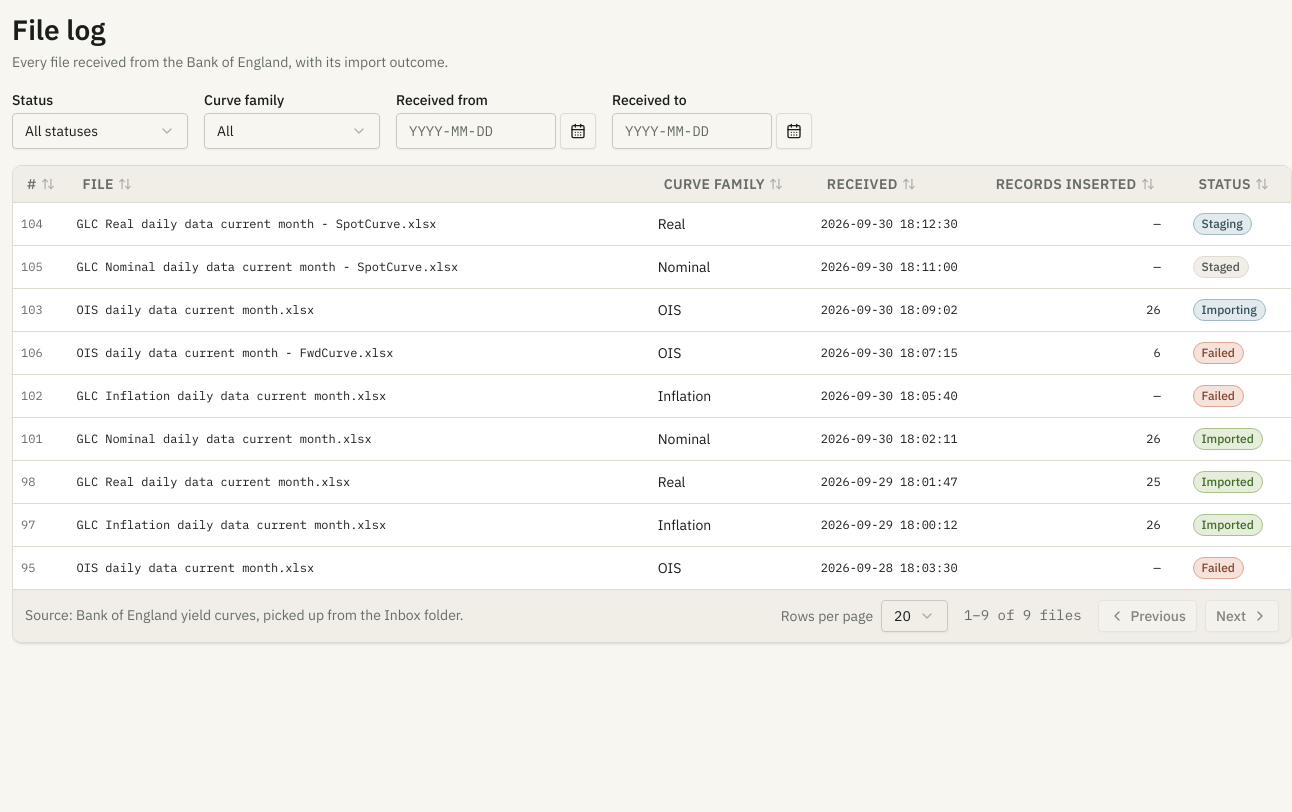
Epic file-log, Story 2: filter and sort the file log › shows the date-format message for a received date not in YYYY-MM-DD form and leaves the list as it was
In the field labelled "Received from": (476, 131) x1=396 y1=113 x2=556 y2=149, type "04/10/2026"
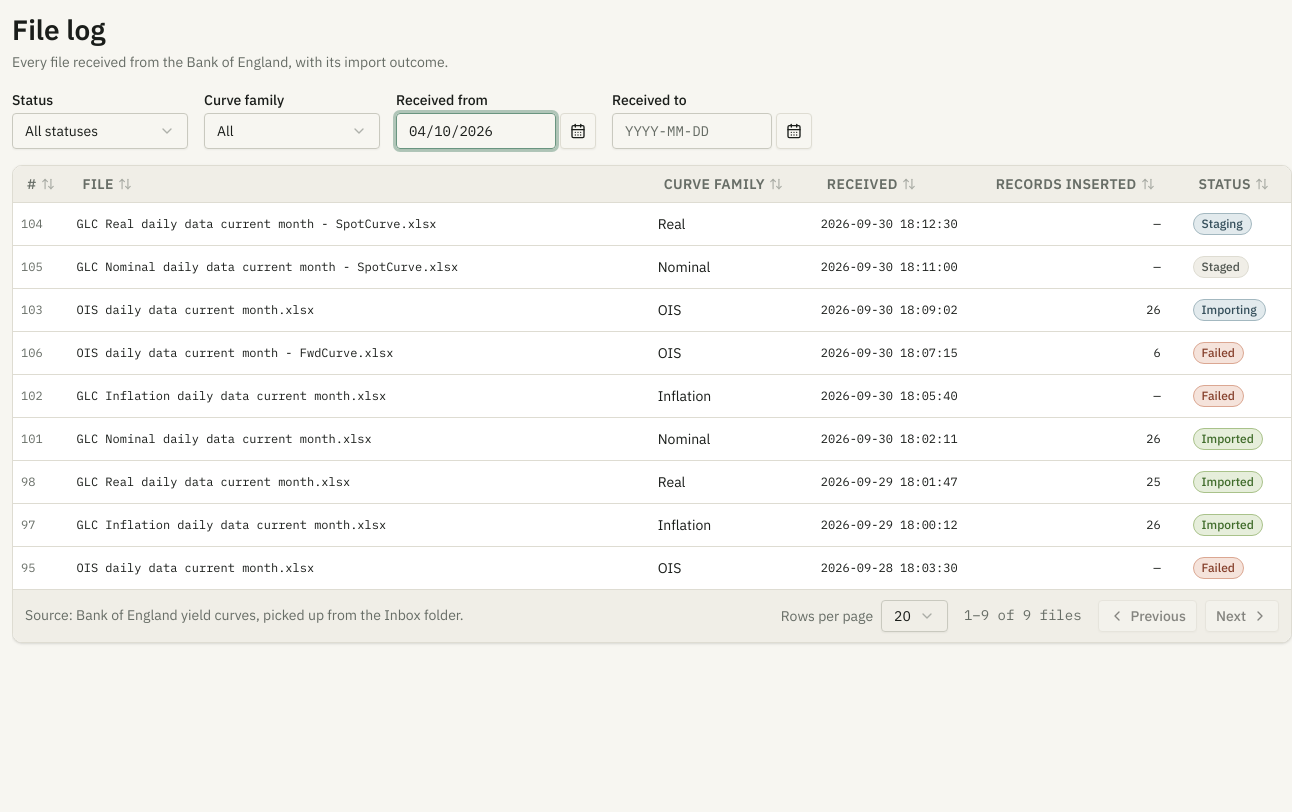
Press Tab
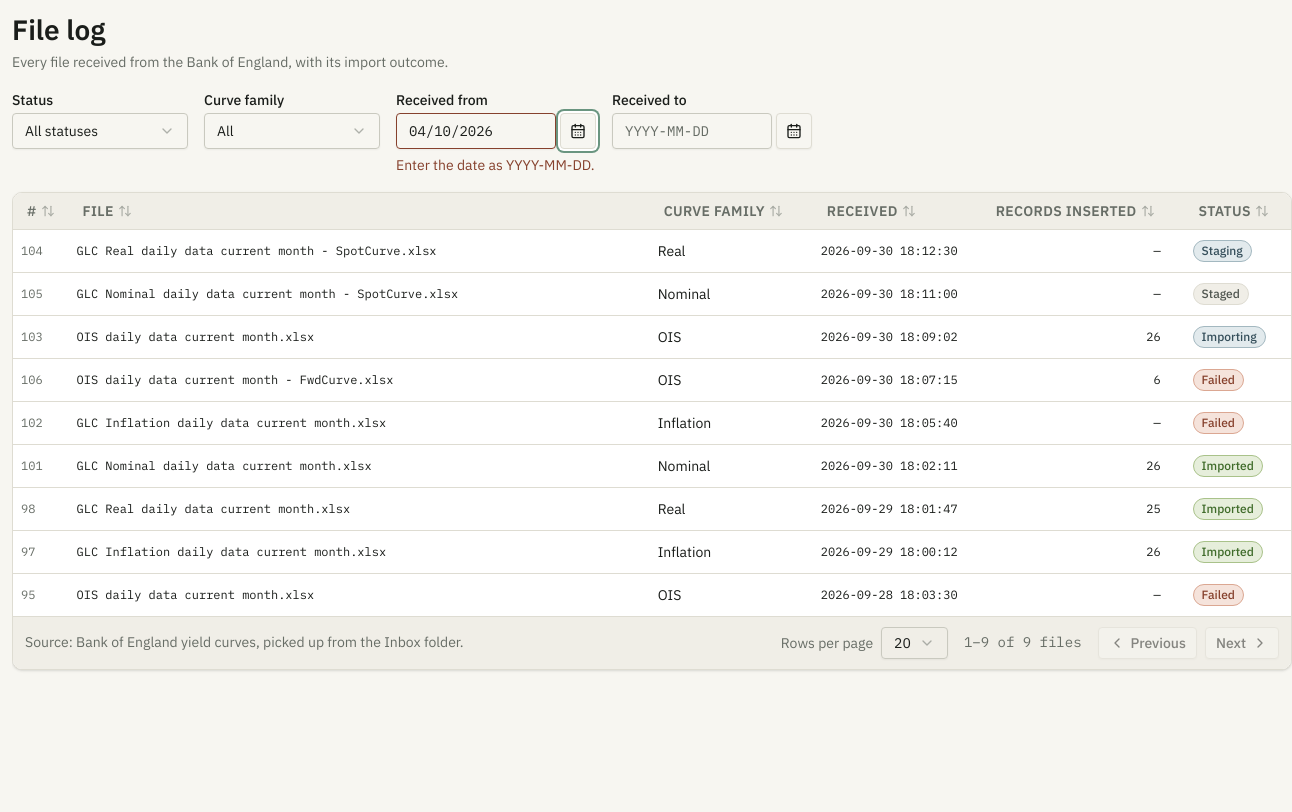
Expected: the text "Enter the date as YYYY-MM-DD." is shown, x1=396 y1=155 x2=596 y2=176
